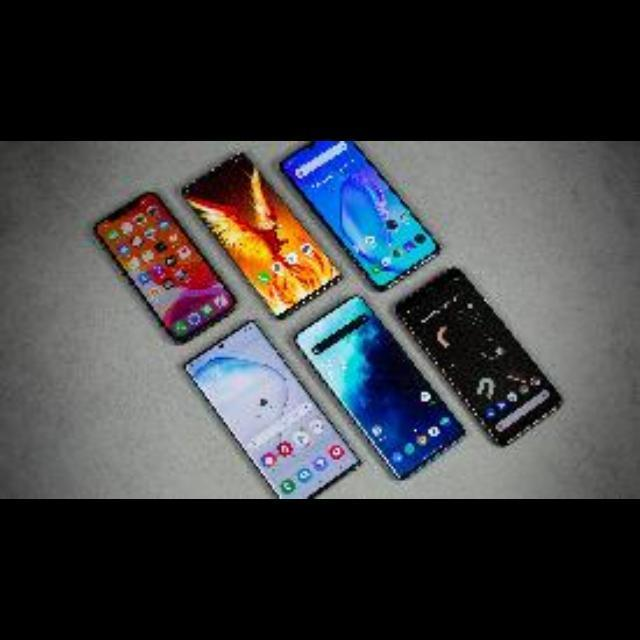PhoneUse: (292, 328, 452, 476), (175, 353, 335, 499), (398, 298, 566, 436), (276, 144, 450, 272), (173, 172, 324, 292), (82, 200, 216, 324)
